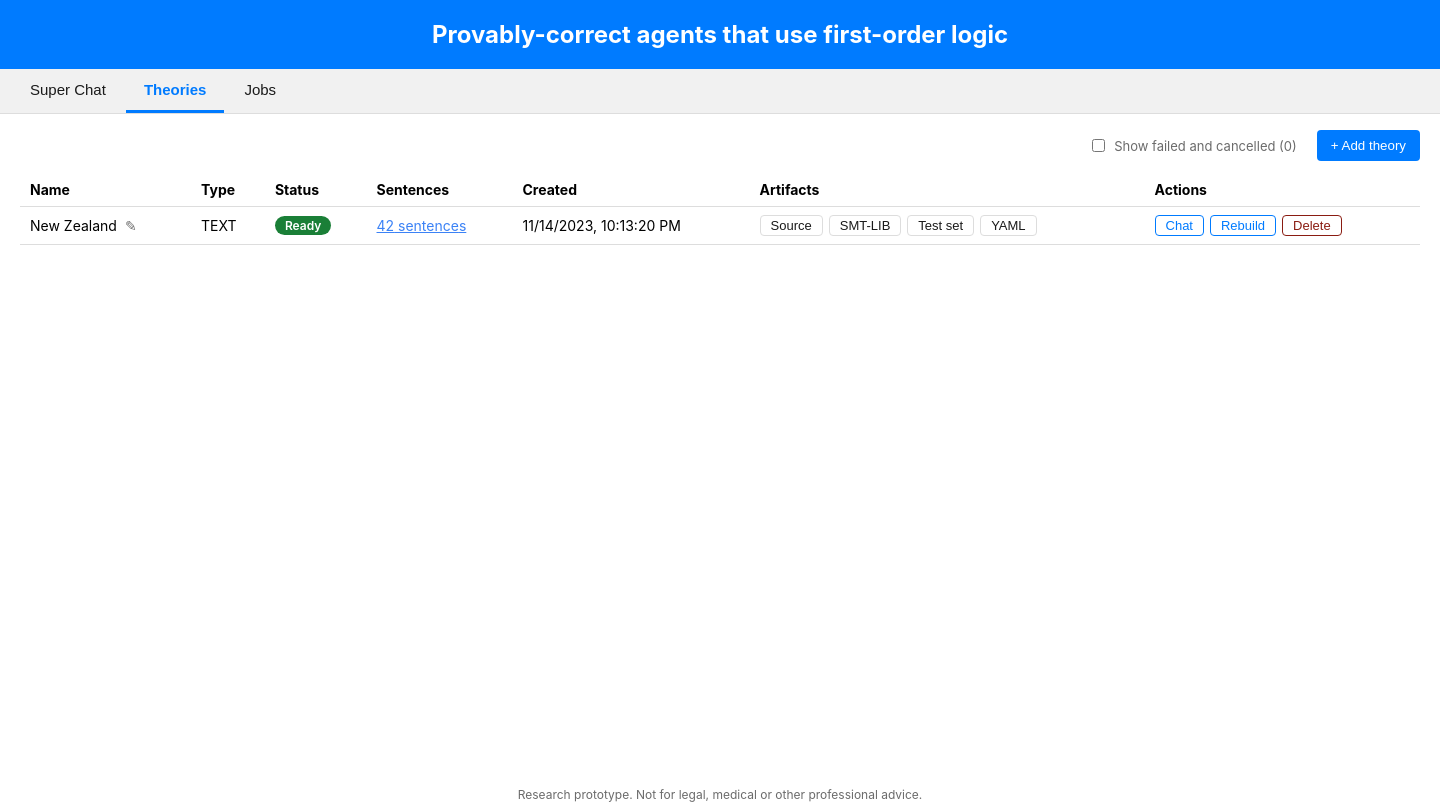
Test: the Chat button opens a chat tab named after its theory
Click the button "Chat": (1179, 226) [1154,215,1204,236]
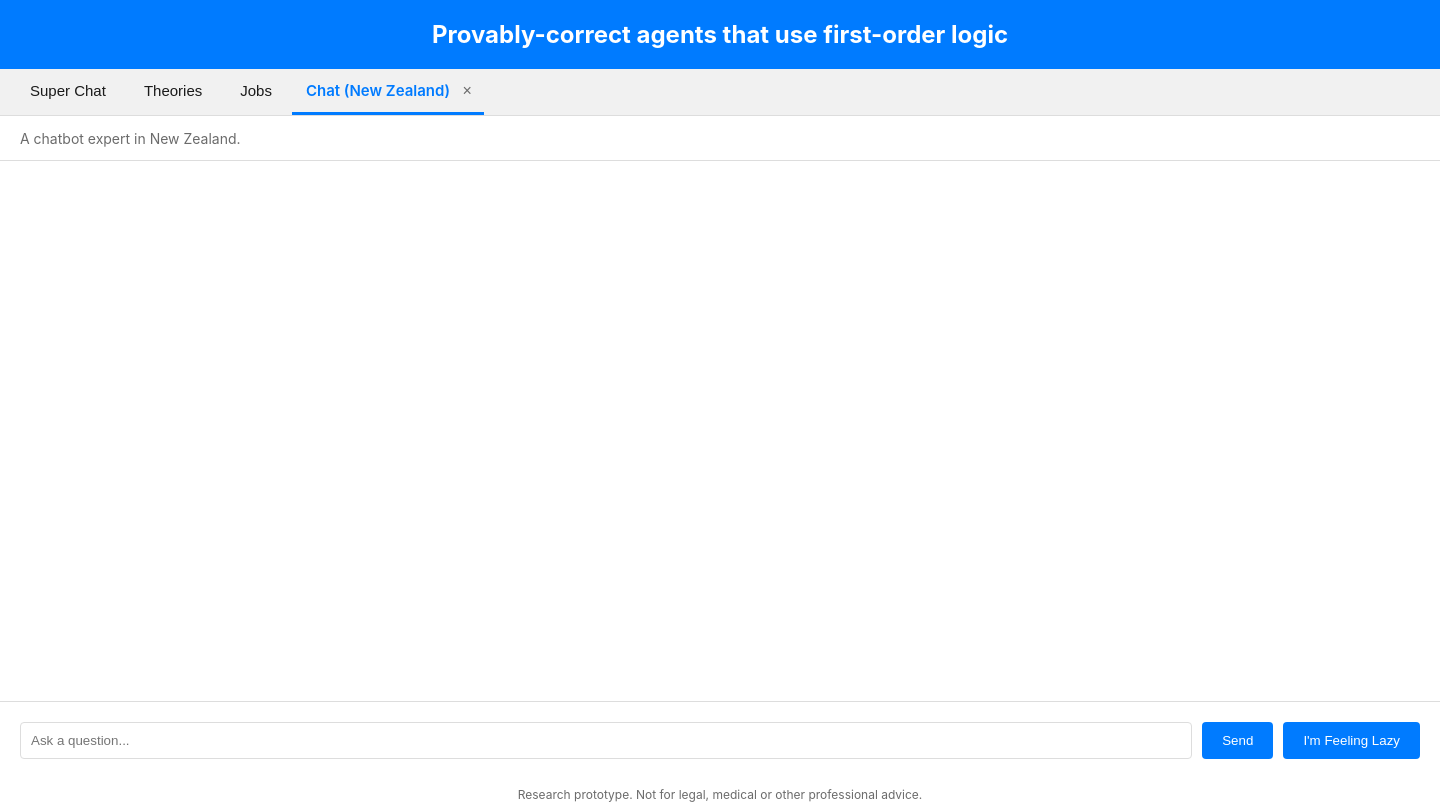
Result: the text "A chatbot expert in New Zealand." is shown at [20,130,241,147]
